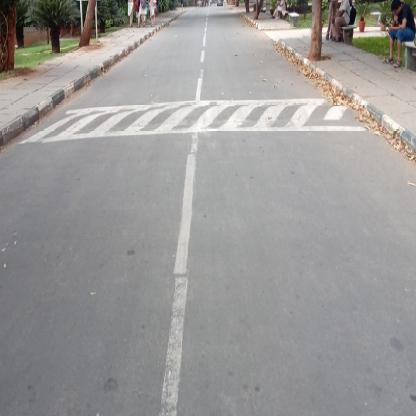speed-bumps: (35, 88, 364, 147)
